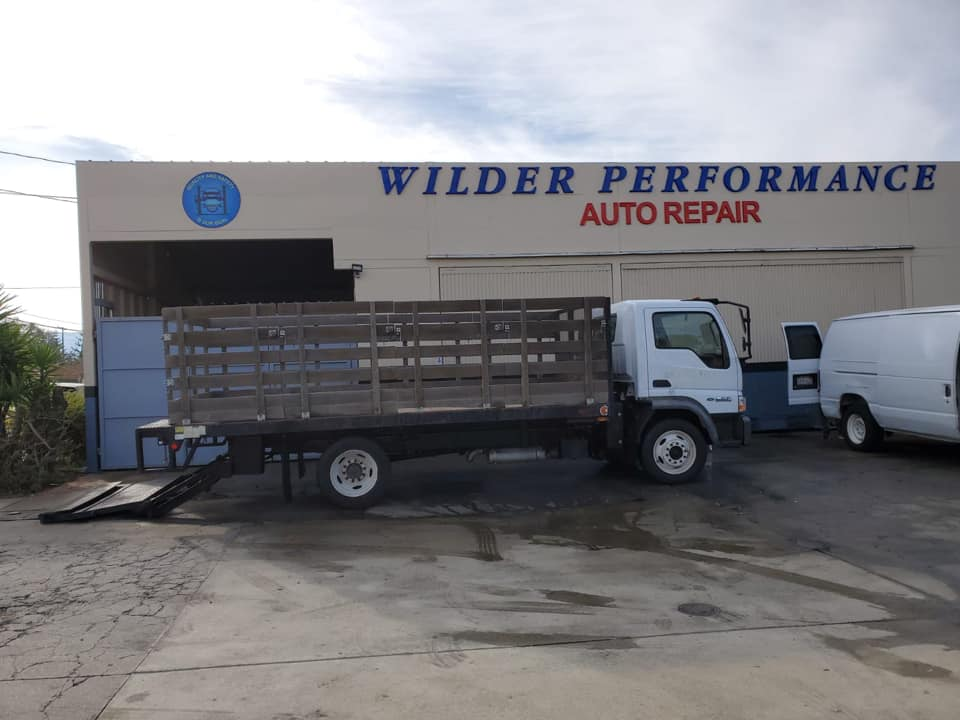camion: (156, 294, 753, 503)
